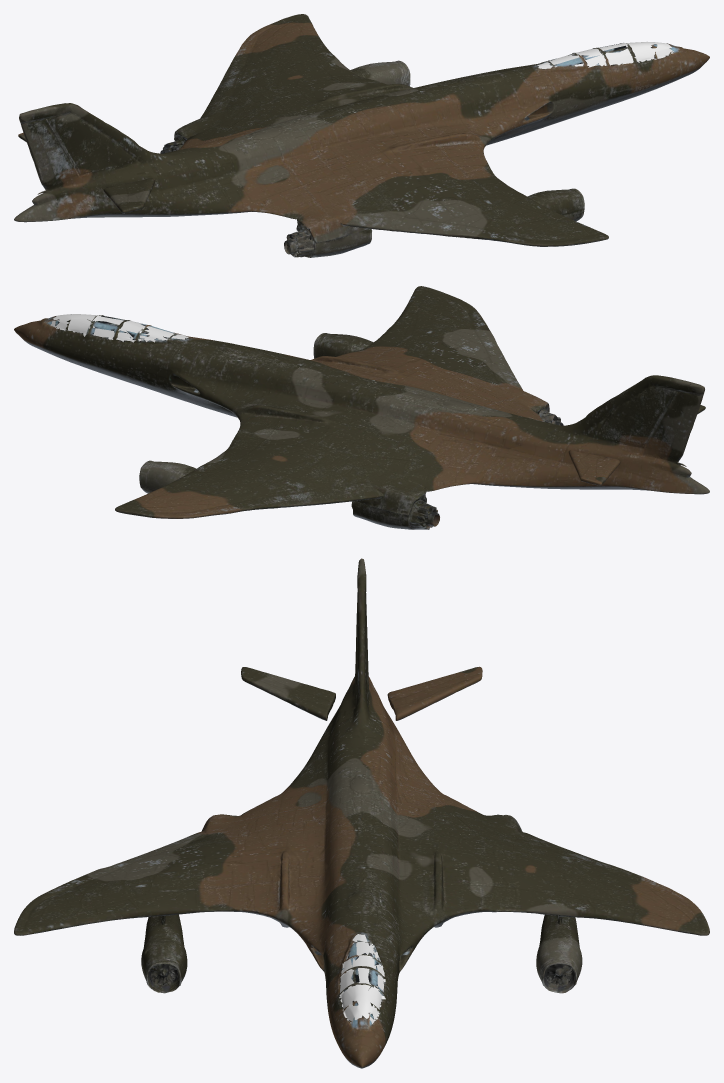
The model's file is fh_battle_bomber_t4.glb.
3 renders of one model, top to bottom at view 1: azimuth 30°, elevation 25°; view 2: azimuth 150°, elevation 25°; view 3: azimuth 270°, elevation 25°, orthographic. The views are drawn at different scales.
Visible parts, largest first — view 1: fh_battle_bomber_t4; view 2: fh_battle_bomber_t4; view 3: fh_battle_bomber_t4.
Part boxes in pixels (x1,y1,x2,y2): fh_battle_bomber_t4: (14, 14, 709, 257); fh_battle_bomber_t4: (14, 286, 709, 529); fh_battle_bomber_t4: (14, 558, 709, 1068).
Bounding box in the file's own units: 1 × 0.2186 × 0.7627.
2 materials, 1 textured.
